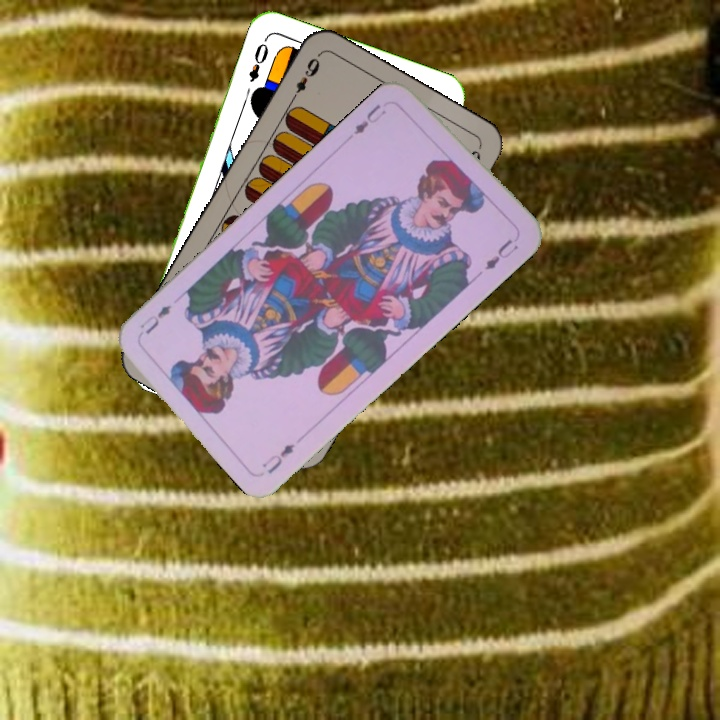E9: (286, 53, 323, 105)
EO: (244, 34, 272, 85)
EU: (349, 100, 389, 138), (258, 439, 297, 477)
